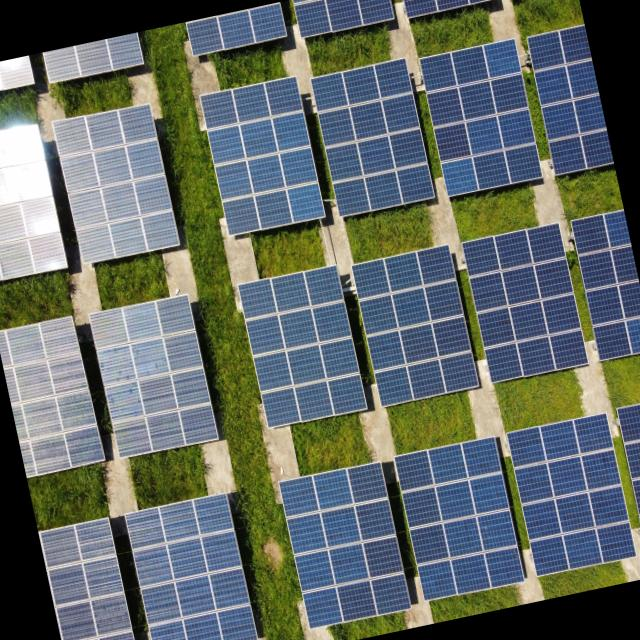no faulty: (280, 462, 412, 624), (352, 244, 480, 411), (394, 438, 525, 598), (90, 298, 216, 462), (239, 264, 367, 424), (200, 75, 324, 239), (464, 221, 588, 379), (510, 414, 635, 569), (310, 61, 436, 213), (126, 492, 253, 640), (422, 40, 540, 196), (56, 113, 178, 262), (0, 317, 102, 476), (37, 515, 141, 640), (526, 26, 613, 172), (0, 126, 66, 283), (573, 209, 640, 358), (618, 403, 640, 554)
